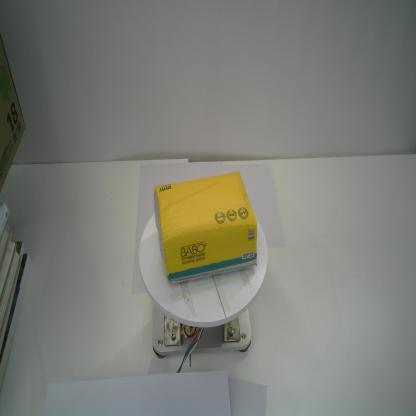Tissue: (153, 170, 259, 286)
